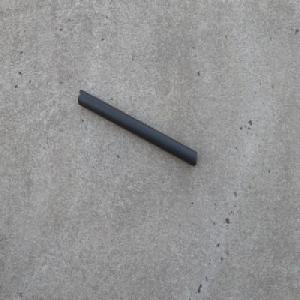LuggagePart: (76, 88, 199, 168)
